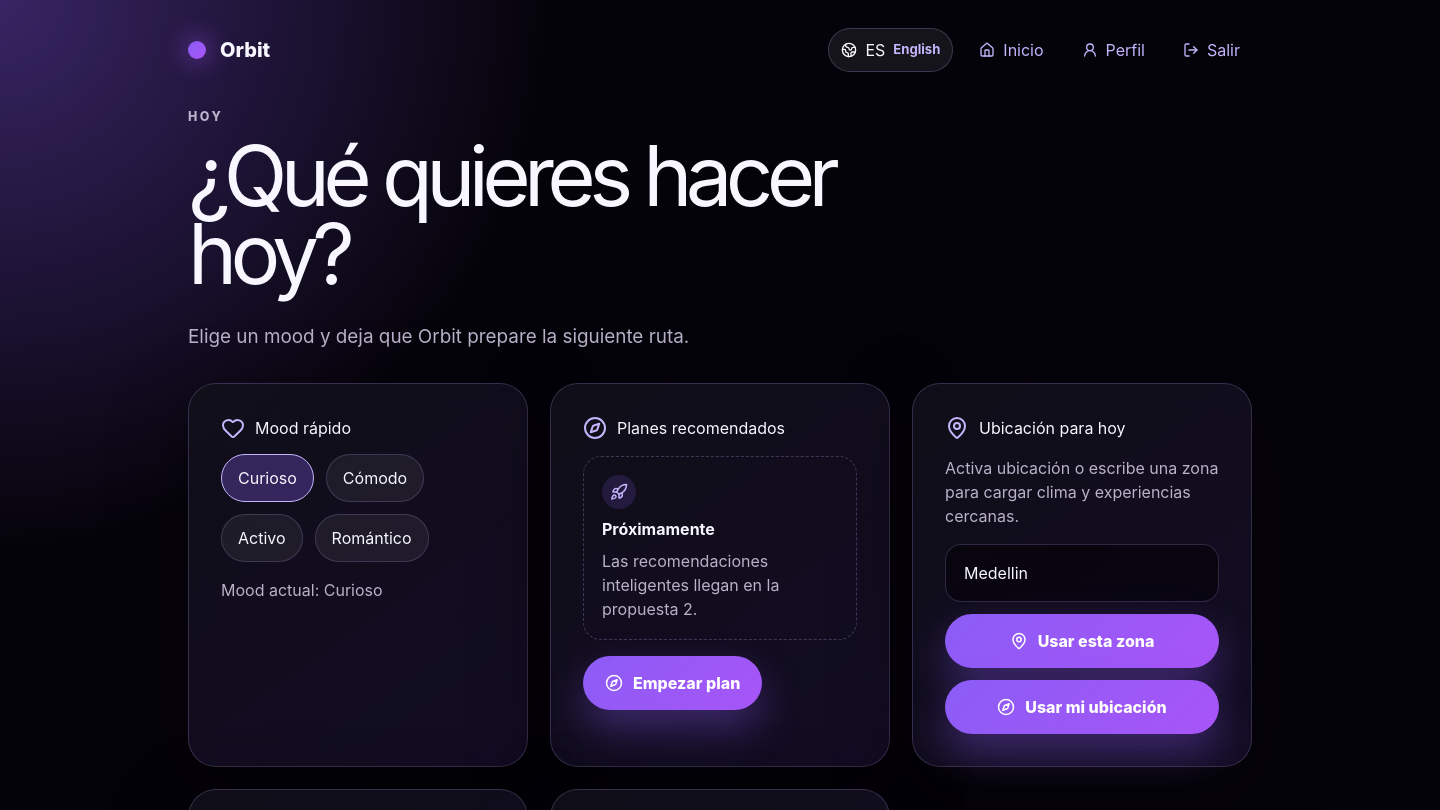
it: Orbit web foundation › shows manual fallback guidance when browser location is unavailable
Click the button "Usar mi ubicación" at (1082, 707), box [945,680,1219,734]
(page scrolled)
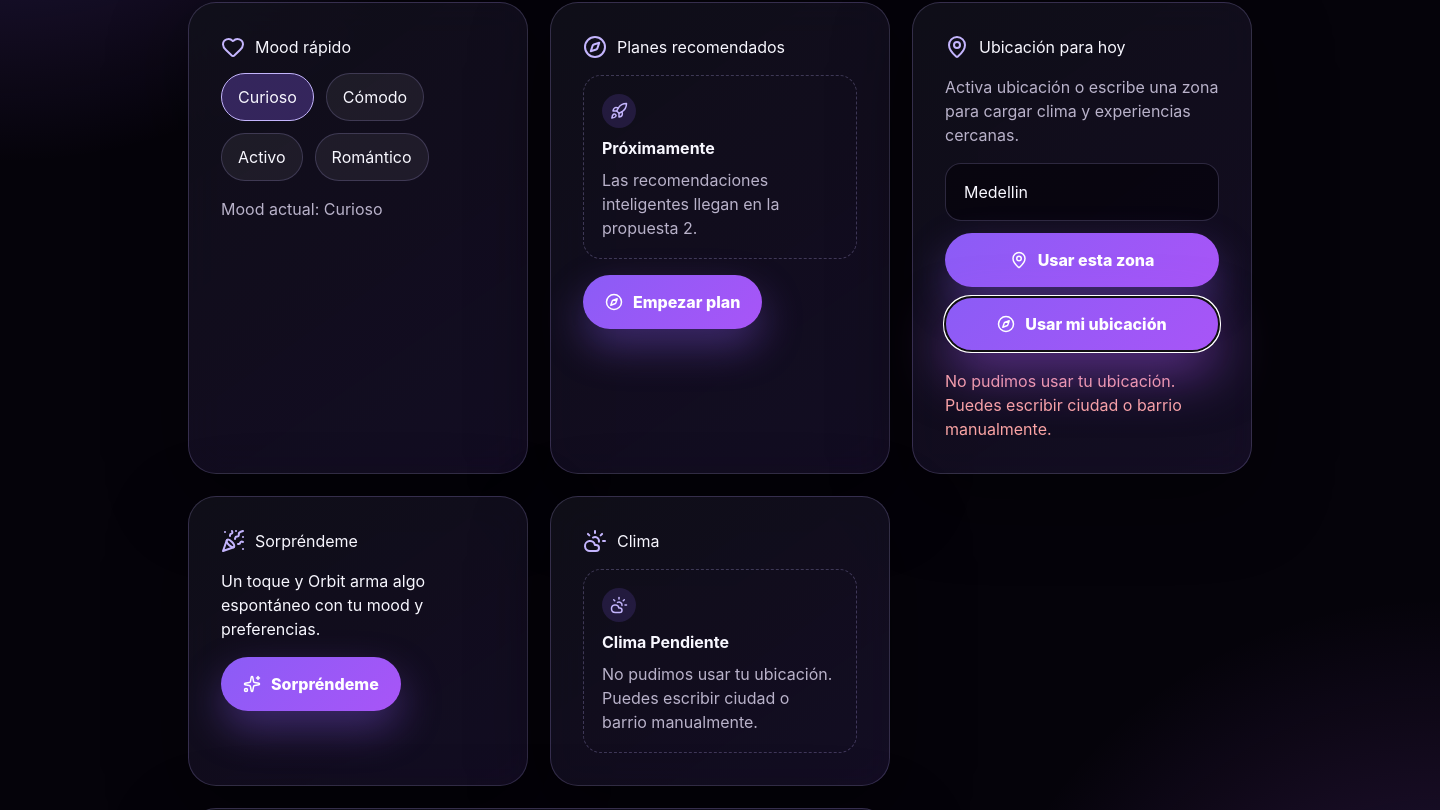
Now the message shows "Puedes escribir ciudad o barrio", box [945,371,1182,439]
